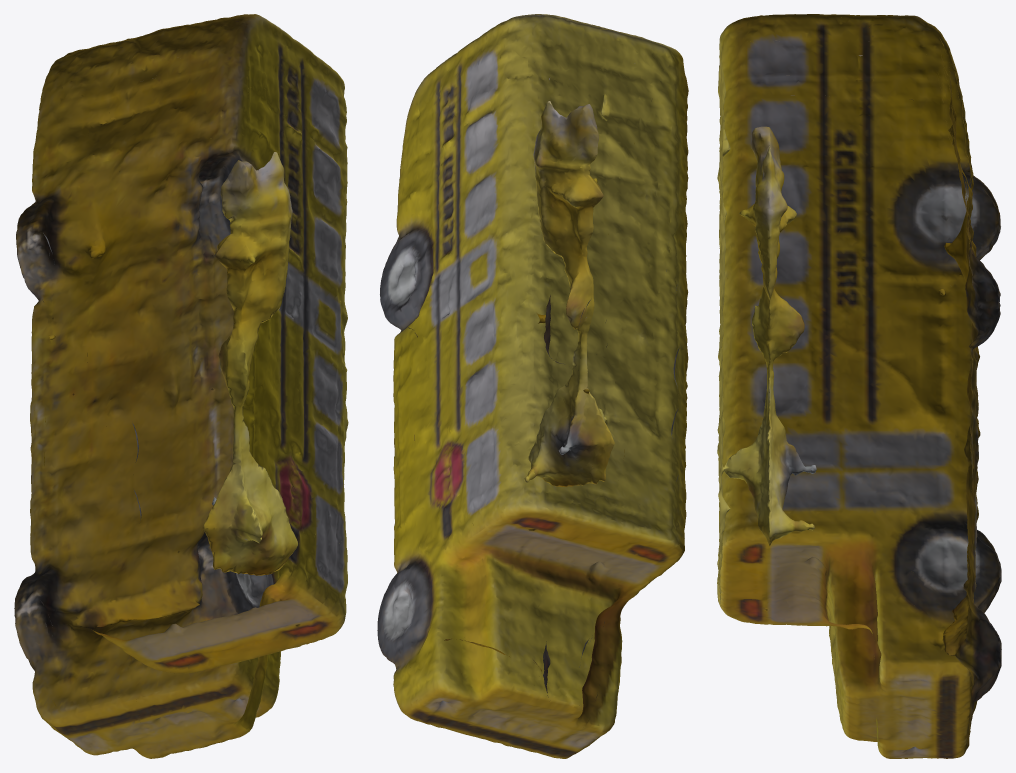
File: school_bus1.glb
3 renders of one model, left to right at view 1: azimuth 30°, elevation 25°; view 2: azimuth 150°, elevation 25°; view 3: azimuth 270°, elevation 25°, orthographic. The views are drawn at different scales.
Size of the model in its own units: 0.3346 by 1 by 0.3865.
